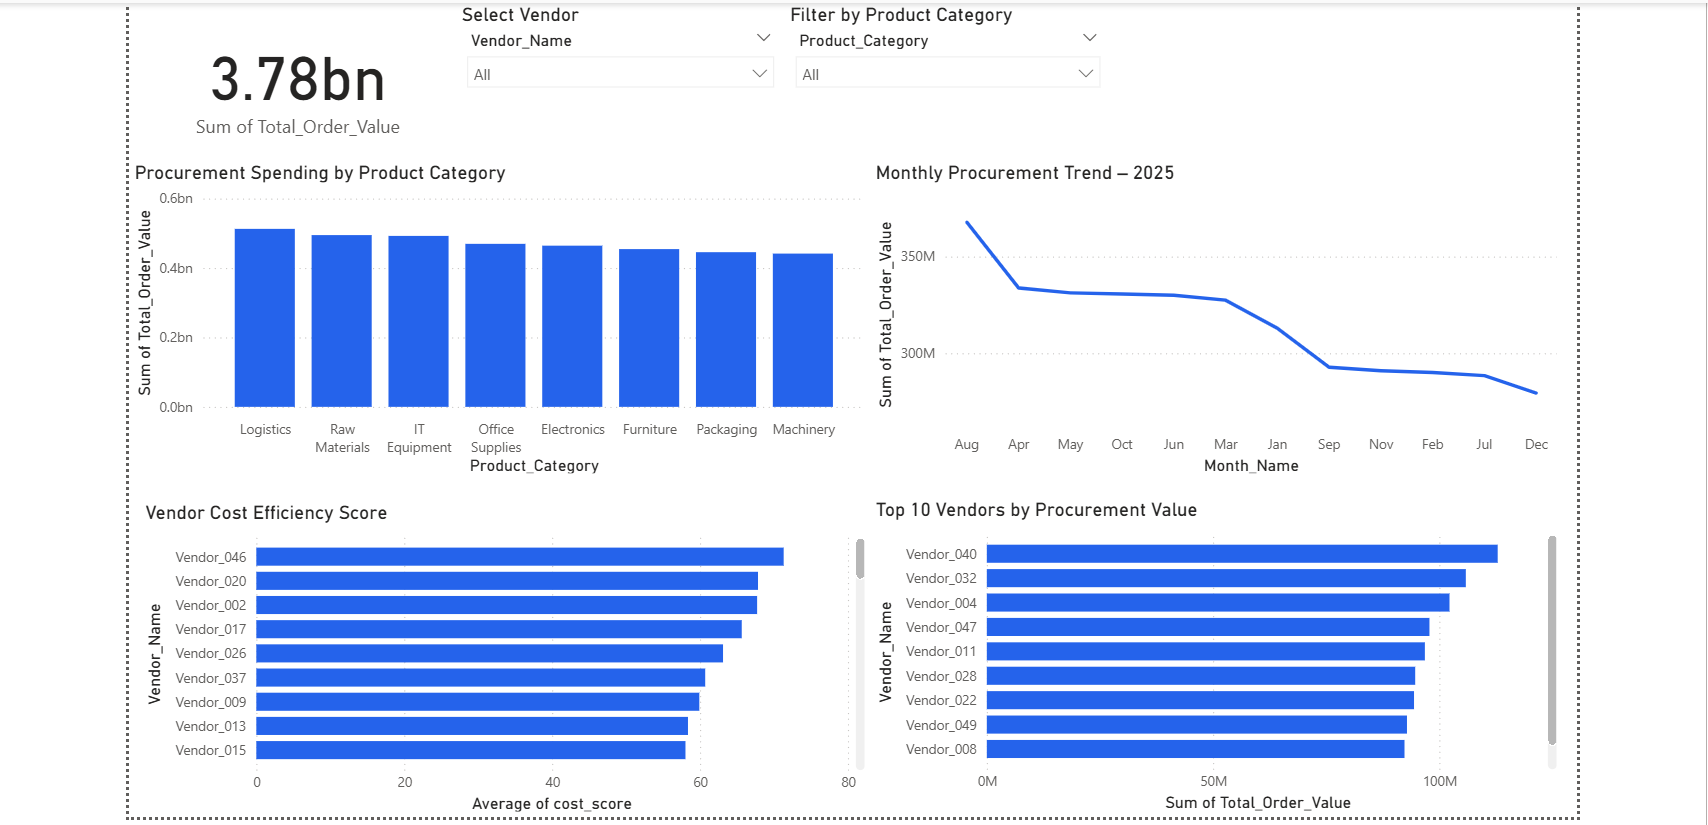

The page's visual inventory and layout, read from the dashboard file:
{"tool":"powerbi","page":{"name":"Procurement & Cost","canvas":[1280,720],"ordinal":3},"visuals":[{"type":"card","fields":{"Values":["Sum(vendor_purchase_orders_cleaned.Total_Order_Value)"]},"box":[9.4,0,279.7,139.8],"z":0},{"type":"columnChart","title":"Procurement Spending by Product Category","fields":{"Category":["vendor_purchase_orders_cleaned.Product_Category"],"Y":["Sum(vendor_purchase_orders_cleaned.Total_Order_Value)"]},"box":[0,139.8,655.8,281.6],"z":1000},{"type":"lineChart","title":"Monthly Procurement Trend – 2025","fields":{"Category":["monthly_procurement_analysis.Month_Name"],"Y":["Sum(monthly_procurement_analysis.Total_Order_Value)"]},"box":[655.8,139.8,612.3,281.6],"z":2000},{"type":"clusteredBarChart","title":"Vendor Cost Efficiency Score","fields":{"Category":["vendor_cost_analysis.Vendor_Name"],"Y":["Avg(vendor_cost_analysis.cost_score)"]},"box":[9.4,440.3,646.3,279.7],"z":3000},{"type":"clusteredBarChart","title":"Top 10 Vendors by Procurement Value","fields":{"Category":["vendor_purchase_orders_cleaned.Vendor_Name"],"Y":["Sum(vendor_purchase_orders_cleaned.Total_Order_Value)"]},"box":[655.8,438.4,612.3,281.6],"z":4000},{"type":"slicer","title":"Filter by Product Category","fields":{"Values":["vendor_purchase_orders_cleaned.Product_Category"]},"box":[580.2,0,289.1,139.8],"z":5000},{"type":"slicer","title":"Select Vendor","fields":{"Values":["vendor_purchase_orders_cleaned.Vendor_Name"]},"box":[289.1,0,291,139.8],"z":6000}]}

Visuals, with their boxes on the page's 1280x720 design canvas (x1, y1, x2, y2). These are canvas units, not pixel positions in the 1708x825 screenshot, which may show the page scaled, cropped or inside an application window:
card - Sum(vendor_purchase_orders_cleaned.Total_Order_Value): [x1=9, y1=0, x2=289, y2=140]
"Procurement Spending by Product Category" columnChart: [x1=0, y1=140, x2=656, y2=421]
"Monthly Procurement Trend – 2025" lineChart: [x1=656, y1=140, x2=1268, y2=421]
"Vendor Cost Efficiency Score" clusteredBarChart: [x1=9, y1=440, x2=656, y2=720]
"Top 10 Vendors by Procurement Value" clusteredBarChart: [x1=656, y1=438, x2=1268, y2=720]
"Filter by Product Category" slicer: [x1=580, y1=0, x2=869, y2=140]
"Select Vendor" slicer: [x1=289, y1=0, x2=580, y2=140]
